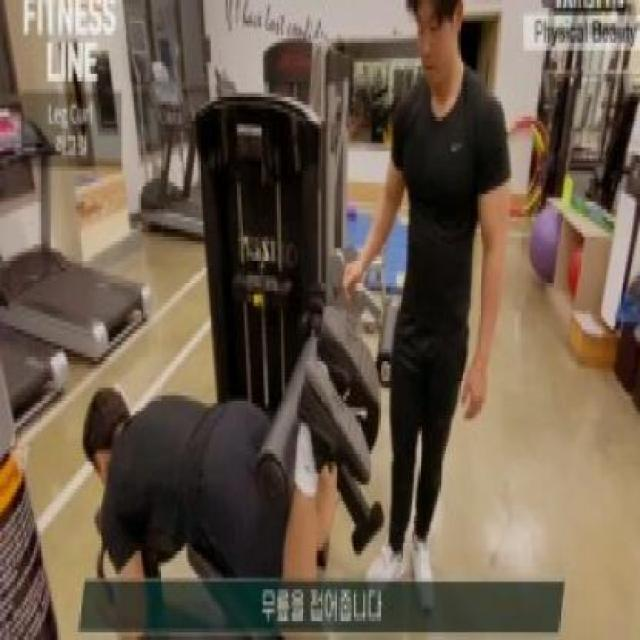reg curl machine: (72, 86, 392, 611)
